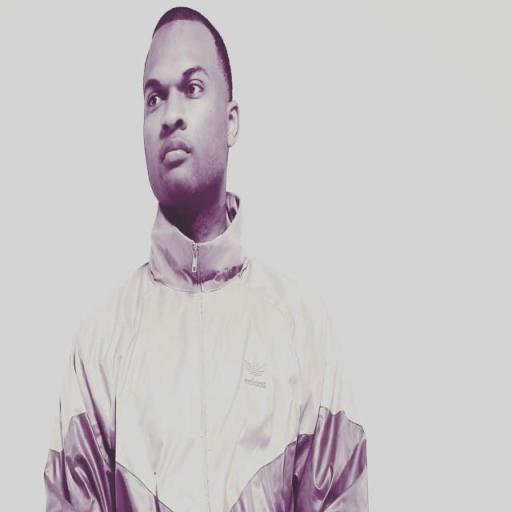Adidas: (241, 354, 269, 392)
